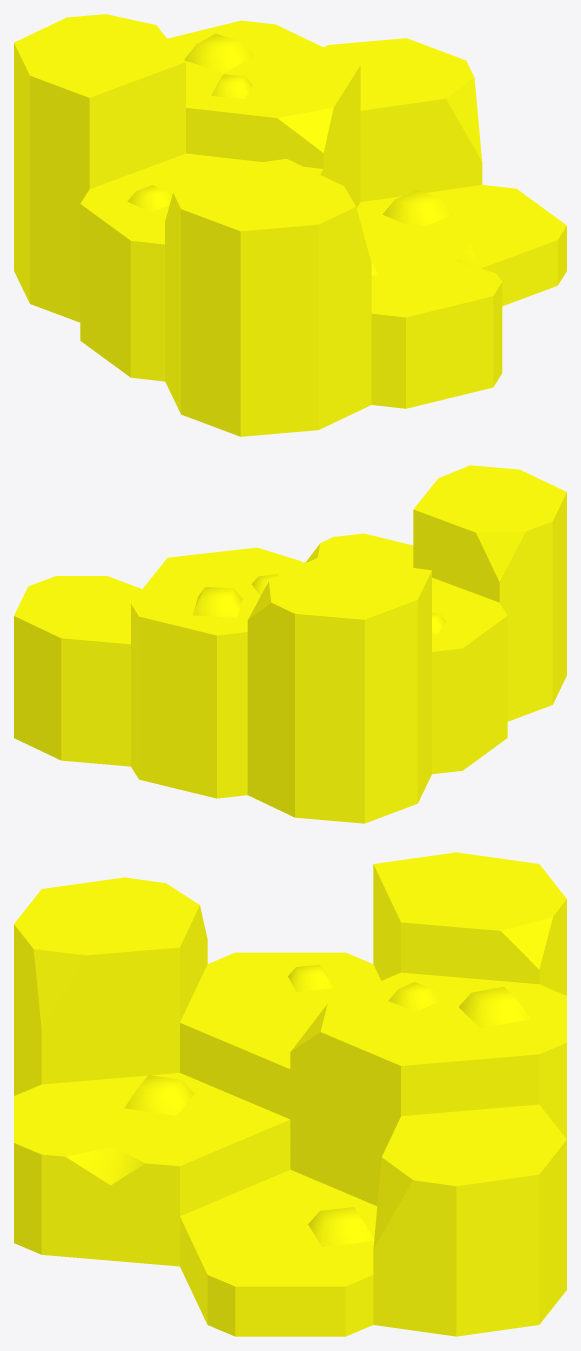
Rendered from 石头假山_假山_斜坡岩石.glb.
3 views of the same model, one above another, from view 1: azimuth 30°, elevation 25°; view 2: azimuth 150°, elevation 25°; view 3: azimuth 270°, elevation 25° (orthographic). The views are drawn at different scales.
Visible parts, largest first — view 1: rocks-ramp; view 2: rocks-ramp; view 3: rocks-ramp.
Boxes of the visible parts, left/top/right/bottom form: rocks-ramp: left=14, top=14, right=566, bottom=436; rocks-ramp: left=14, top=465, right=566, bottom=823; rocks-ramp: left=14, top=852, right=566, bottom=1336.
Bounding box in the file's own units: 1 × 0.5 × 1.
1 material, 1 textured.
